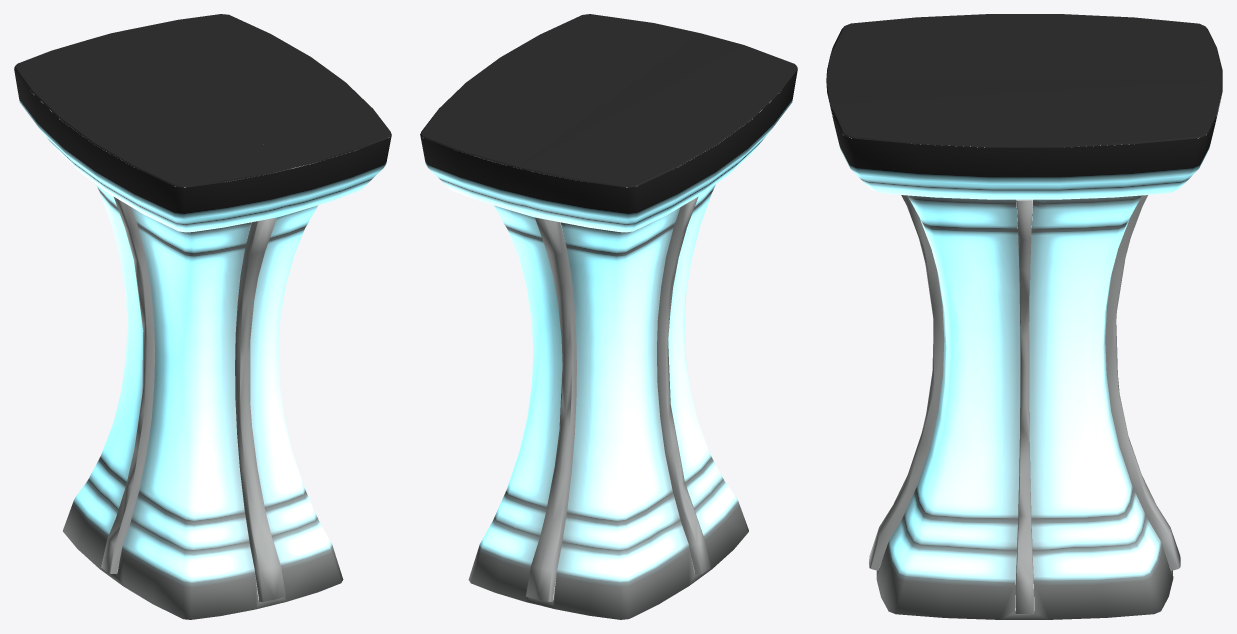
File: bar_table_3_b.glb
3 views of the same model, side by side, from view 1: azimuth 30°, elevation 25°; view 2: azimuth 150°, elevation 25°; view 3: azimuth 270°, elevation 25° (orthographic). The views are drawn at different scales.
Parts seen in each view (by area): view 1: bar_table_3; view 2: bar_table_3; view 3: bar_table_3.
Part boxes in pixels (box(x1,y1,x2,y2)): bar_table_3: box(14, 14, 391, 619); bar_table_3: box(420, 14, 797, 619); bar_table_3: box(826, 14, 1222, 619).
Bounding box in the file's own units: 0.6371 × 1.1 × 0.8015.
Materials: 1 (1 with a texture image).
